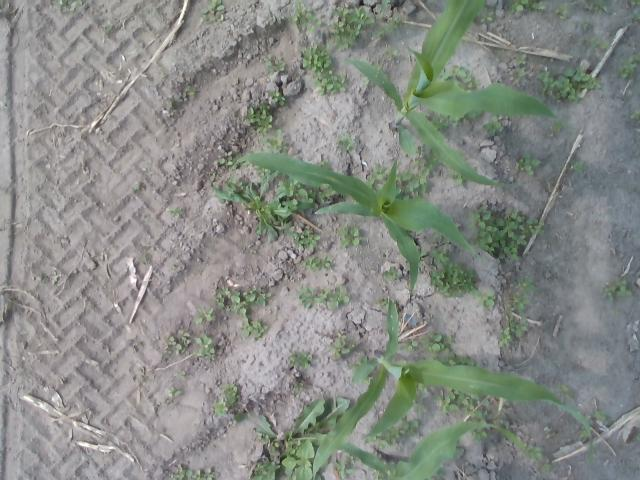Maize: (311, 291, 594, 480), (341, 1, 559, 187), (233, 150, 482, 303), (338, 422, 526, 478)
Weeds: (208, 172, 298, 238), (469, 205, 544, 259), (250, 396, 326, 442), (234, 440, 314, 480), (536, 65, 602, 100), (330, 6, 375, 52), (214, 286, 274, 316), (500, 292, 530, 348), (429, 263, 474, 298), (296, 284, 351, 309), (301, 41, 332, 72), (448, 389, 479, 417), (442, 66, 478, 90), (245, 106, 272, 136), (603, 276, 634, 302), (403, 168, 429, 199), (312, 72, 347, 95), (240, 316, 270, 341), (172, 464, 218, 480), (420, 331, 451, 353), (163, 330, 190, 355), (328, 331, 350, 358), (374, 17, 400, 38), (514, 154, 538, 176), (264, 130, 286, 153), (442, 354, 478, 368), (293, 230, 319, 249), (366, 163, 386, 187), (302, 255, 332, 271), (202, 0, 226, 20), (510, 0, 546, 13), (194, 334, 214, 357), (474, 288, 496, 308), (288, 352, 312, 370), (434, 394, 458, 412), (338, 227, 359, 247), (416, 146, 434, 168), (214, 398, 237, 415), (586, 36, 610, 50), (304, 14, 322, 32), (195, 306, 215, 322), (54, 0, 83, 11), (619, 63, 637, 80), (484, 116, 501, 134), (399, 420, 418, 436), (288, 2, 303, 22), (519, 276, 537, 292), (297, 188, 315, 204), (338, 134, 356, 150), (218, 150, 235, 166), (558, 384, 574, 401), (231, 154, 250, 168), (139, 245, 153, 264), (128, 335, 142, 354), (268, 60, 286, 74), (166, 96, 183, 110), (432, 249, 450, 262), (386, 428, 401, 443), (372, 440, 388, 454), (399, 341, 417, 352), (234, 410, 248, 424), (224, 384, 238, 398), (166, 206, 181, 219), (318, 190, 334, 202), (383, 266, 397, 279), (167, 386, 181, 398), (556, 3, 568, 17), (512, 68, 524, 82), (594, 410, 608, 422), (270, 92, 284, 104), (480, 10, 493, 22), (448, 174, 462, 185), (184, 85, 196, 97), (530, 446, 542, 458), (384, 46, 397, 57), (578, 429, 590, 440), (294, 382, 304, 395), (102, 21, 114, 31), (630, 109, 640, 120), (515, 53, 525, 64), (552, 120, 562, 131), (145, 164, 154, 176), (594, 4, 606, 12), (544, 426, 552, 438), (257, 168, 268, 176), (583, 16, 589, 30), (174, 370, 186, 377), (380, 296, 388, 306), (630, 55, 640, 63), (134, 180, 142, 190), (263, 56, 273, 64), (138, 368, 145, 379), (572, 162, 584, 168), (472, 432, 484, 438), (542, 464, 550, 472), (434, 231, 440, 241), (614, 307, 620, 316), (634, 13, 640, 22), (159, 68, 165, 76), (631, 1, 640, 6), (144, 216, 151, 222)
